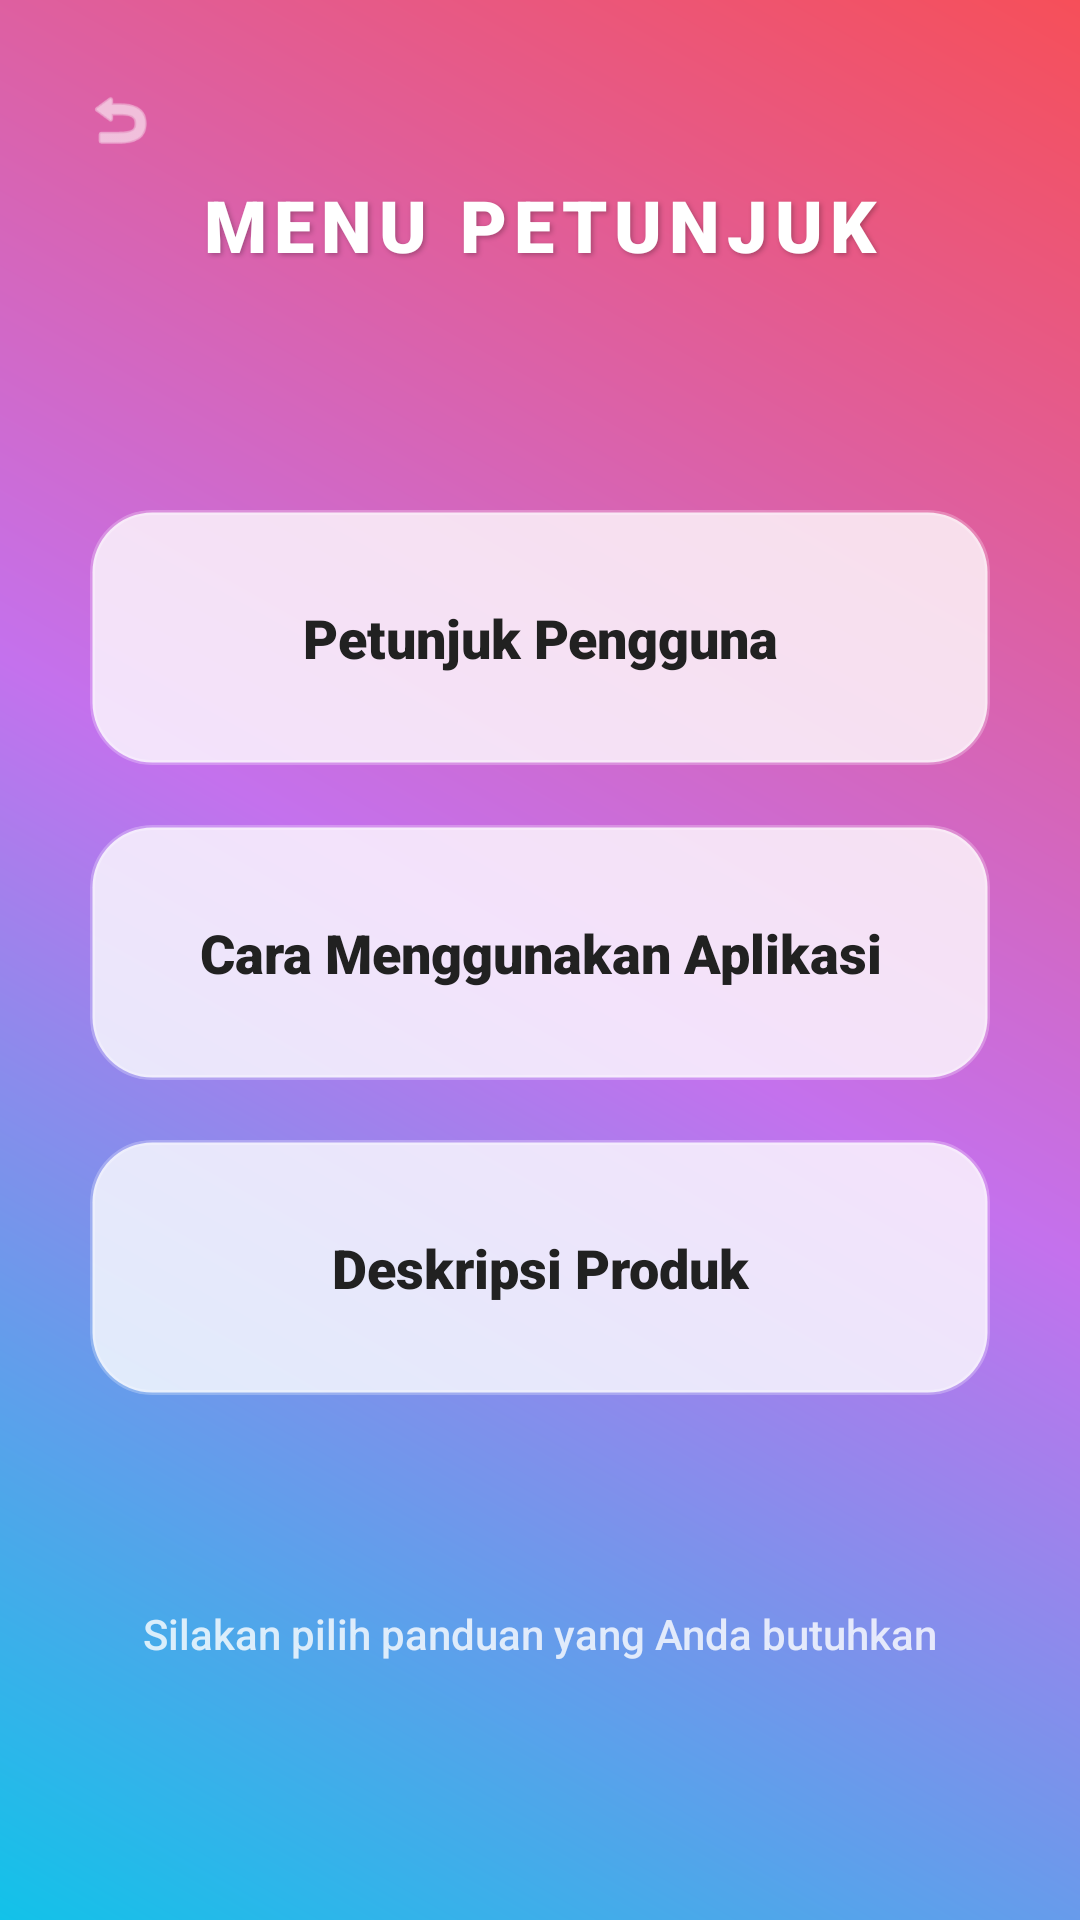

Named icons in this screenshot (1080 × 1920) and their bounding boxes, (x1, y1, x2, y2):
revert: (95, 97, 147, 144)
